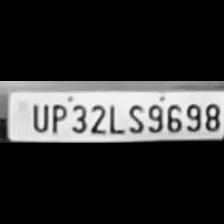2: (87, 100, 105, 134)
3: (67, 100, 87, 134)
6: (164, 100, 182, 134)
8: (202, 100, 222, 132)
9: (182, 100, 202, 132), (146, 100, 162, 134)
L: (106, 100, 122, 134)
P: (48, 100, 66, 134)
S: (124, 101, 144, 133)
U: (27, 100, 49, 132)
